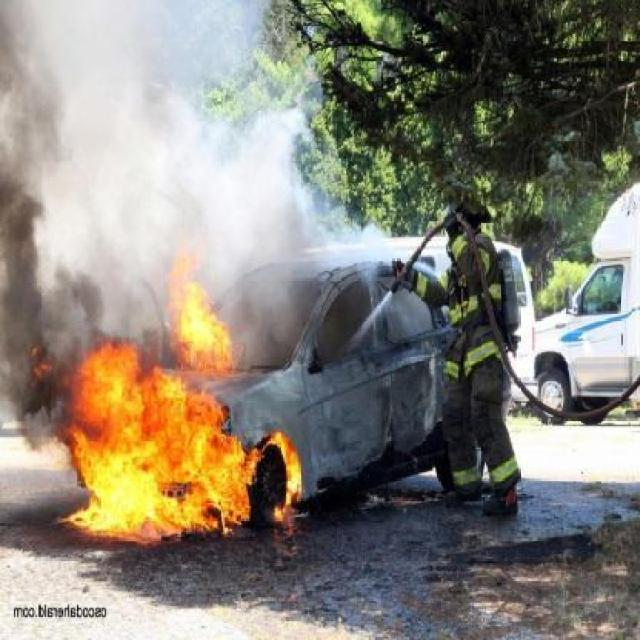Fire: (0, 255, 332, 580)
Smoke: (2, 21, 304, 270)
